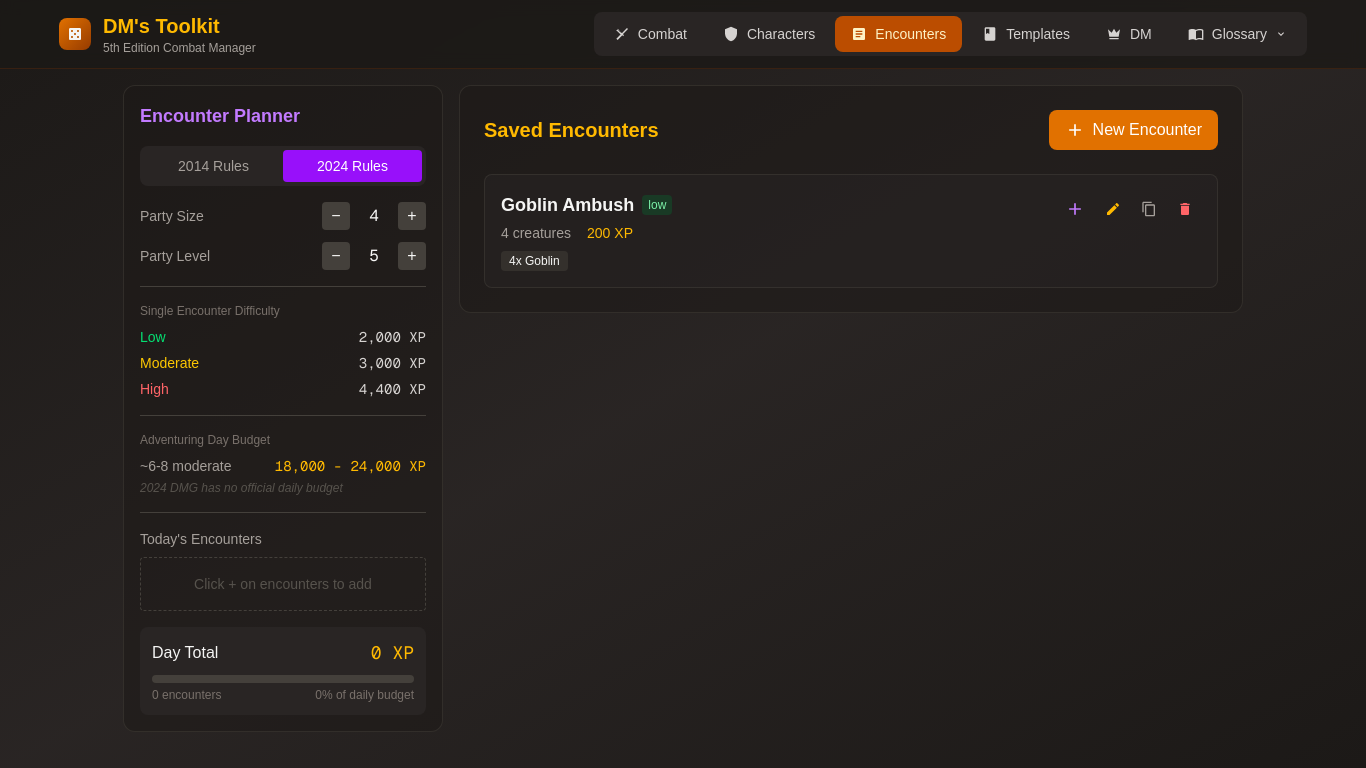
Test: EncountersPage › duplicating an encounter appends a "(Copy)" entry
expect the heading "Saved Encounters" is shown: met, box [484,116,658,144]
Click the button titled "Duplicate": (1149, 209) [1133,193,1165,225]
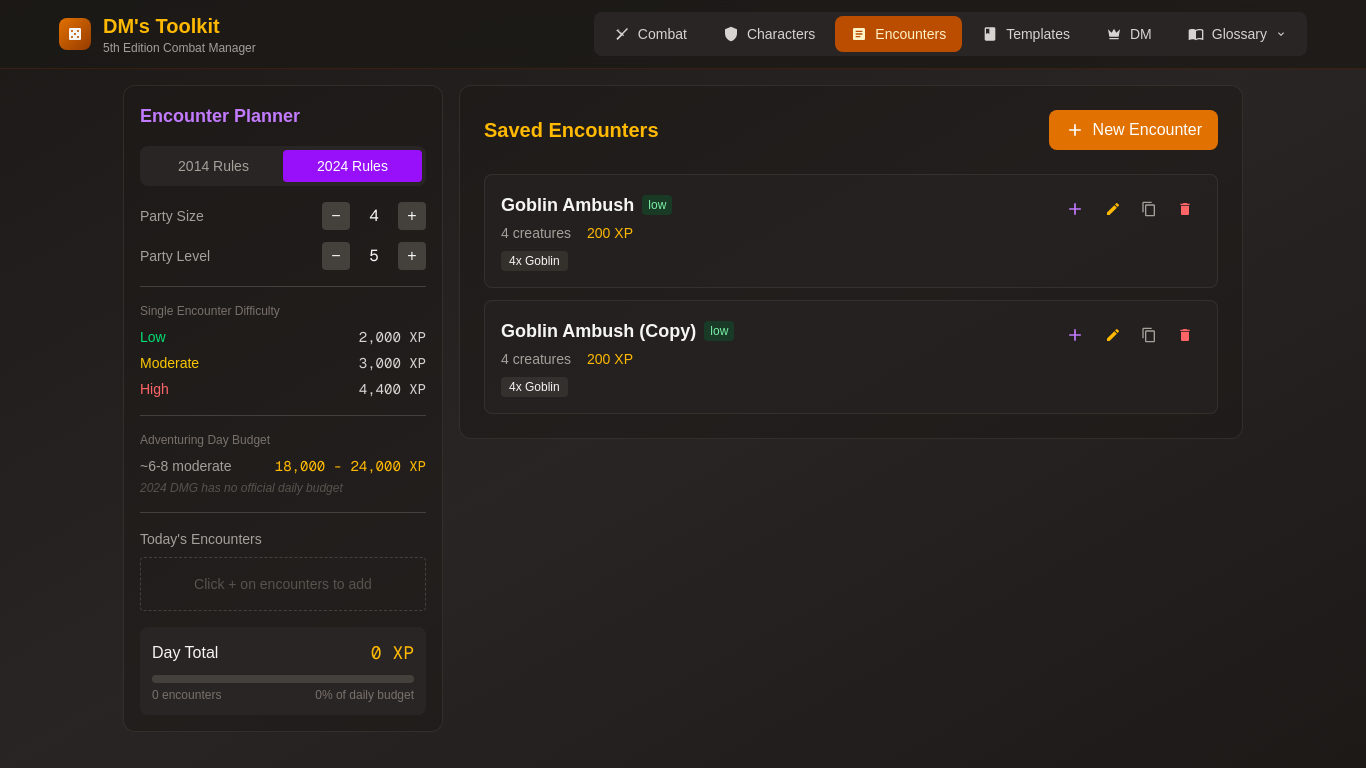
expect the heading "Goblin Ambush (Copy)" is shown: met, box [501,317,696,345]
expect the text "200 XP" is shown 2 times: met, box [587,223,633,243]; [587,349,633,369]
